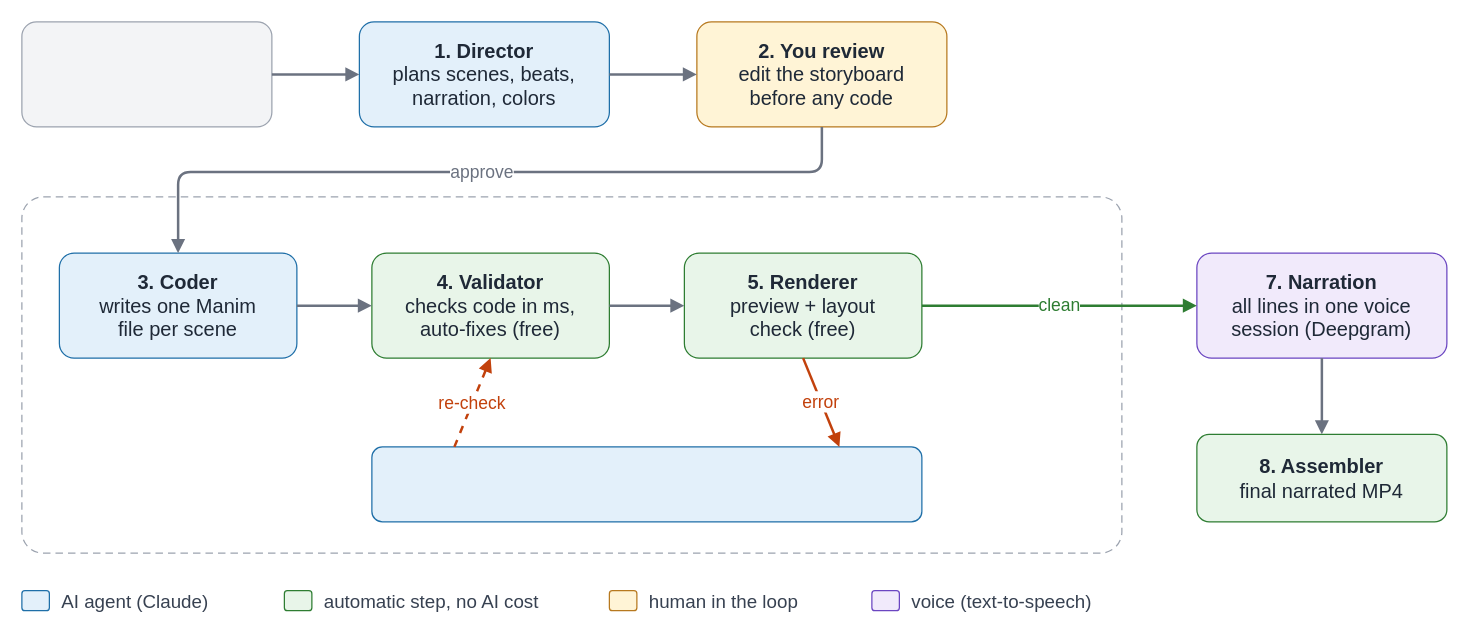
Some shapes in this 1469 by 638 pixel diagram are drawn without their labels. Each missing label, with the box of its shape:
6. Fixer makes small edits, like a code editor: (371, 446, 922, 522)
for each scene: (21, 196, 1122, 553)
Prompt “Why is the derivative of x² equal to 2x?”: (21, 21, 272, 127)
